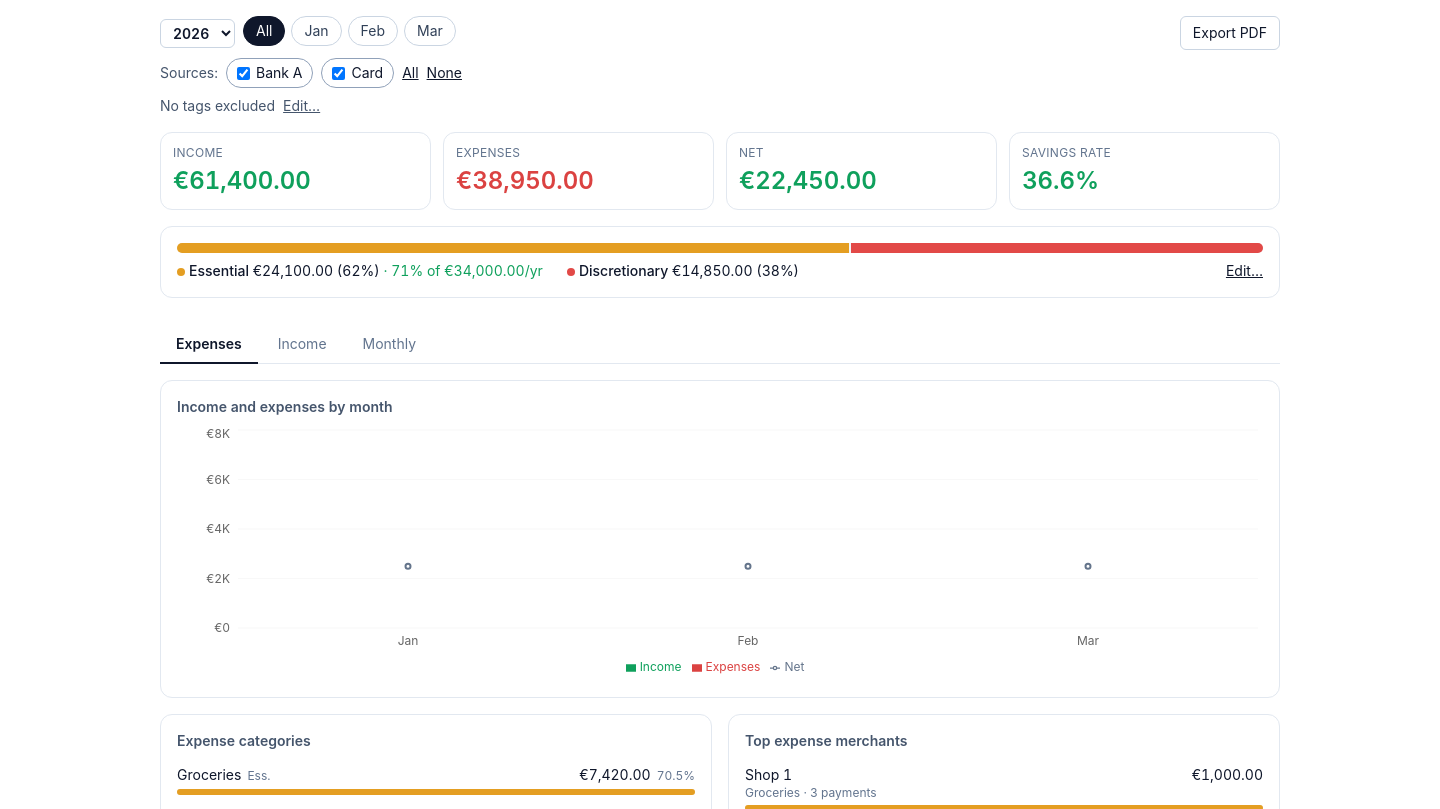
Test: hidden-tag editor › says when no tag is in use
This screenshot has width=1440, height=809.
Click the button with aria-label "edit hidden tags" at (302, 106), box [283, 96, 320, 116]
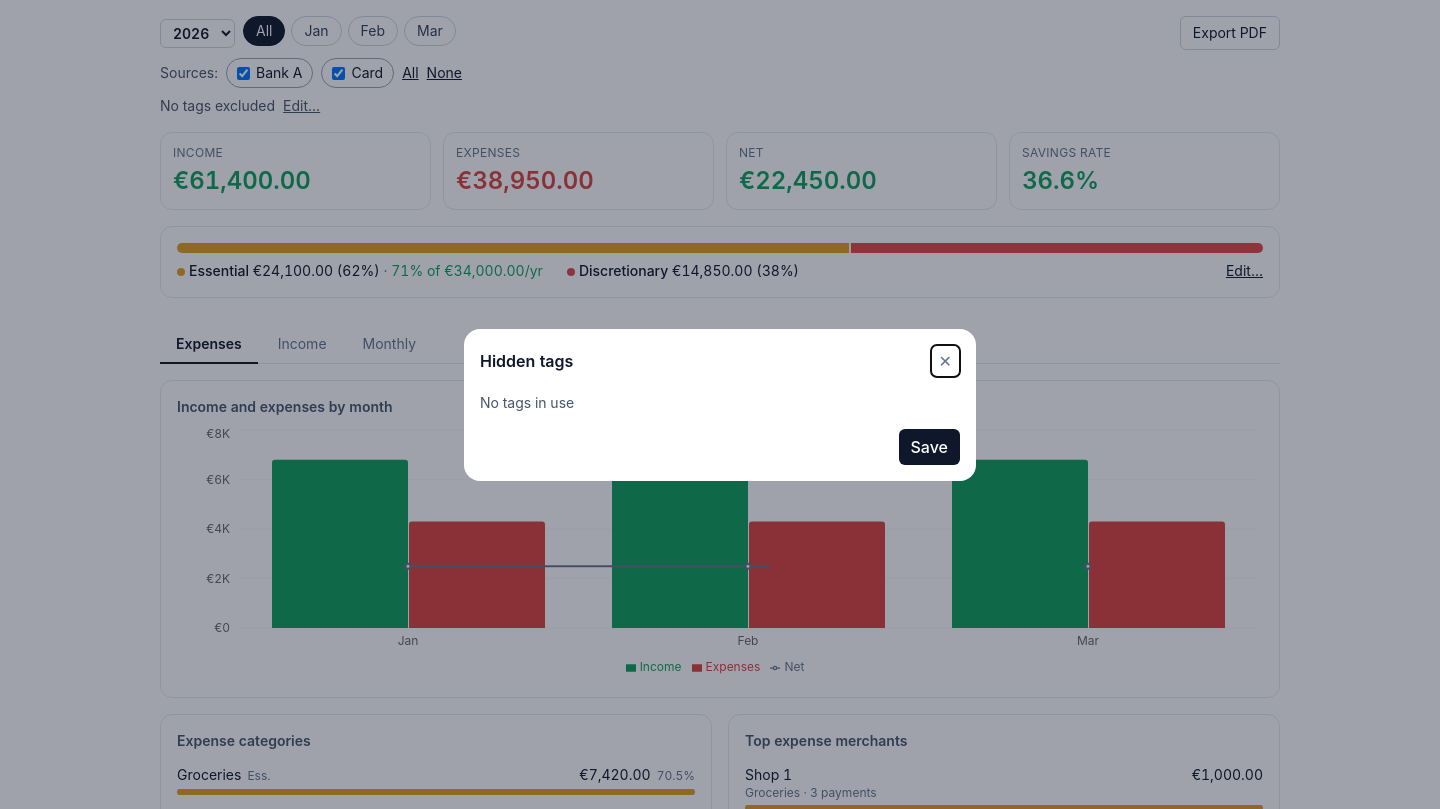
Now the text "No tags in use" is shown, box [480, 394, 574, 411]
